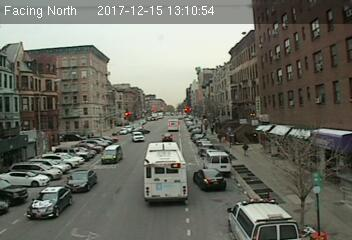bus: (143, 142, 188, 202)
car: (27, 187, 72, 219), (191, 167, 228, 192), (65, 169, 98, 193), (100, 145, 123, 162), (161, 132, 172, 141)
pedestrian: (242, 144, 251, 162)
police: (225, 197, 300, 240)
truck: (202, 151, 231, 174), (167, 119, 179, 132)
